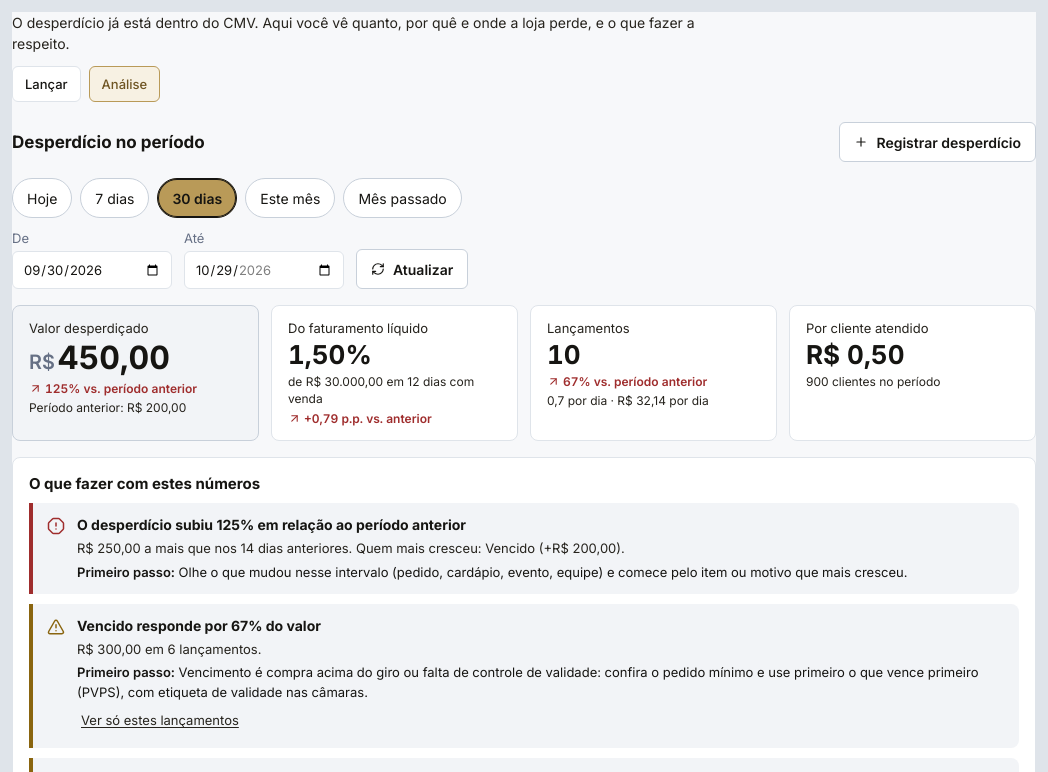
Test case: Análise: abas e primeira tela › 'Registrar desperdício' na análise leva ao formulário
Click the button "Registrar desperdício".
click(938, 142)  # box [839,122,1036,162]
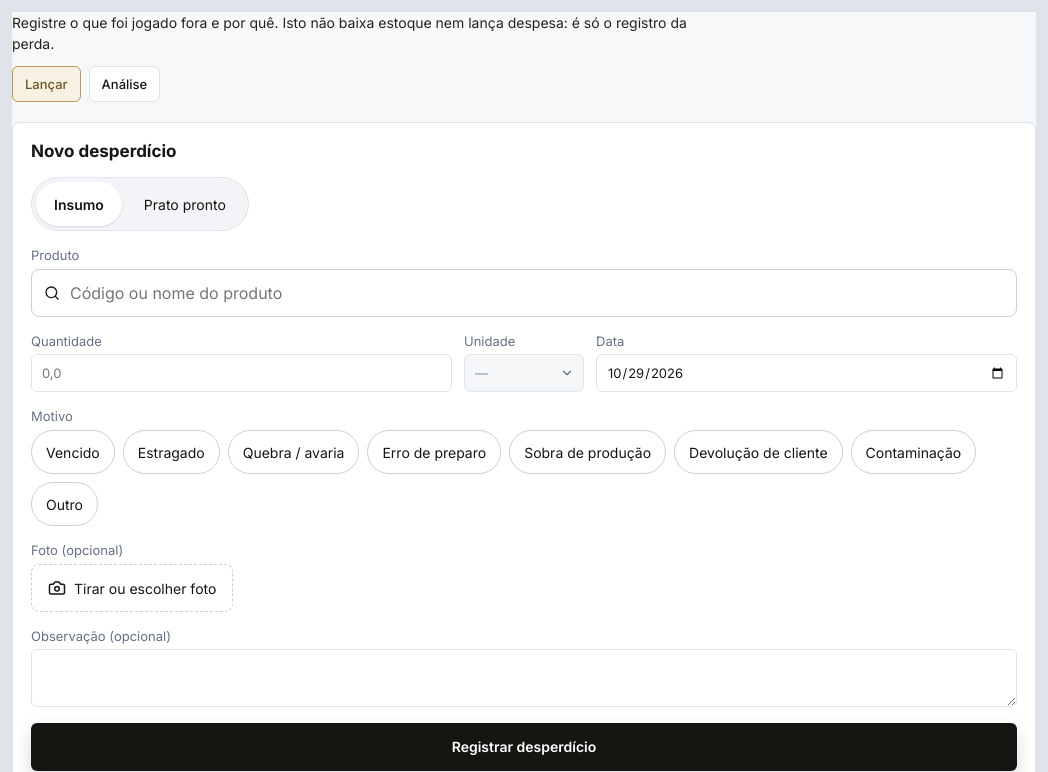
expect the search field named "buscar produto" is shown: met, box [68,282,1004,304]
